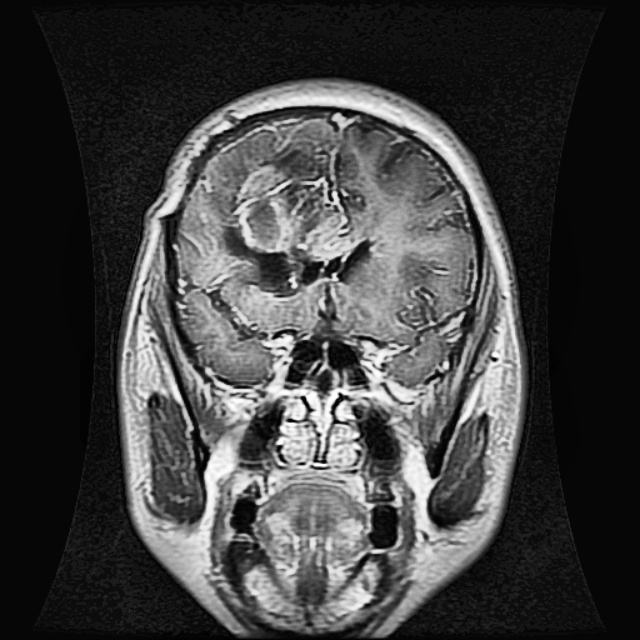Meningioma: (222, 165, 373, 299)
